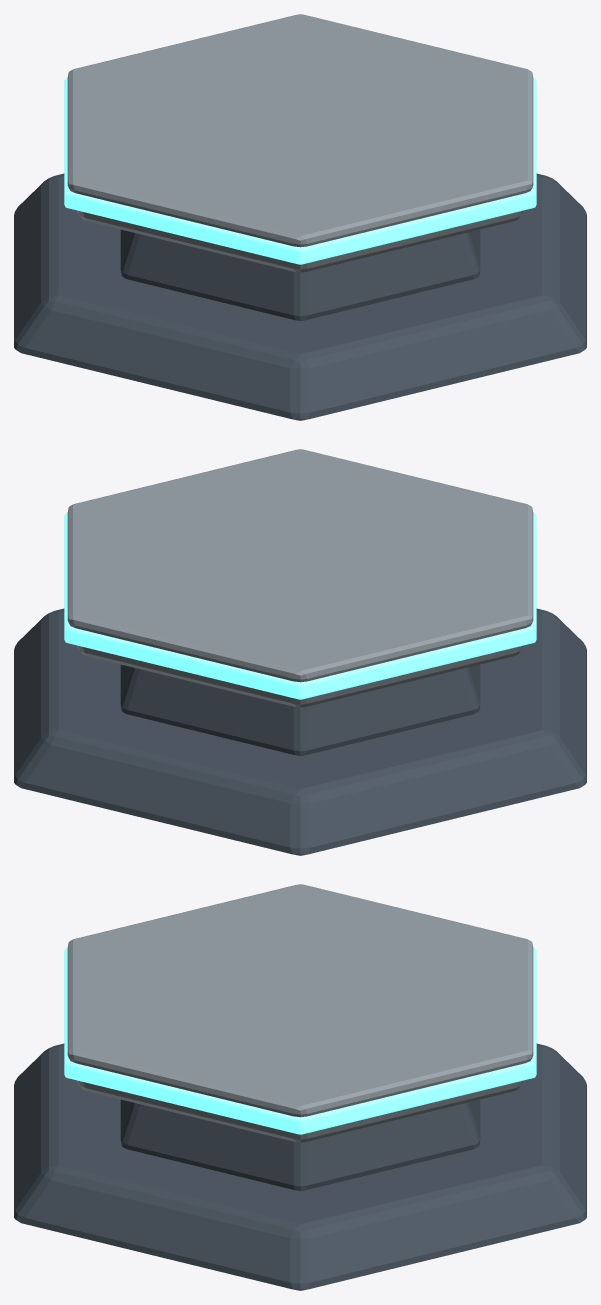
File: Spawner_Pedestal.fbx
3 views of the same model, one above another, from view 1: azimuth 30°, elevation 25°; view 2: azimuth 150°, elevation 25°; view 3: azimuth 270°, elevation 25° (orthographic).
Visible parts, largest first — view 1: SpawnerPedestal_SuperficieSuperior, SpawnerPedestal_BaseHex, SpawnerPedestal_SuporteHex, SpawnerPedestal_ContornoLuminoso; view 2: SpawnerPedestal_SuperficieSuperior, SpawnerPedestal_BaseHex, SpawnerPedestal_SuporteHex, SpawnerPedestal_ContornoLuminoso; view 3: SpawnerPedestal_SuperficieSuperior, SpawnerPedestal_BaseHex, SpawnerPedestal_SuporteHex, SpawnerPedestal_ContornoLuminoso.
Boxes of the visible parts, x1,y1,x2,y2 form: SpawnerPedestal_SuperficieSuperior: (67, 14, 533, 272); SpawnerPedestal_BaseHex: (14, 173, 586, 420); SpawnerPedestal_SuporteHex: (120, 229, 480, 321); SpawnerPedestal_ContornoLuminoso: (64, 78, 536, 264); SpawnerPedestal_SuperficieSuperior: (67, 449, 533, 707); SpawnerPedestal_BaseHex: (14, 608, 586, 855); SpawnerPedestal_SuporteHex: (120, 664, 480, 756); SpawnerPedestal_ContornoLuminoso: (64, 513, 536, 699); SpawnerPedestal_SuperficieSuperior: (67, 884, 533, 1142); SpawnerPedestal_BaseHex: (14, 1043, 586, 1290); SpawnerPedestal_SuporteHex: (120, 1099, 480, 1191); SpawnerPedestal_ContornoLuminoso: (64, 948, 536, 1134).
Bounding box in the file's own units: 150 × 40 × 131.
